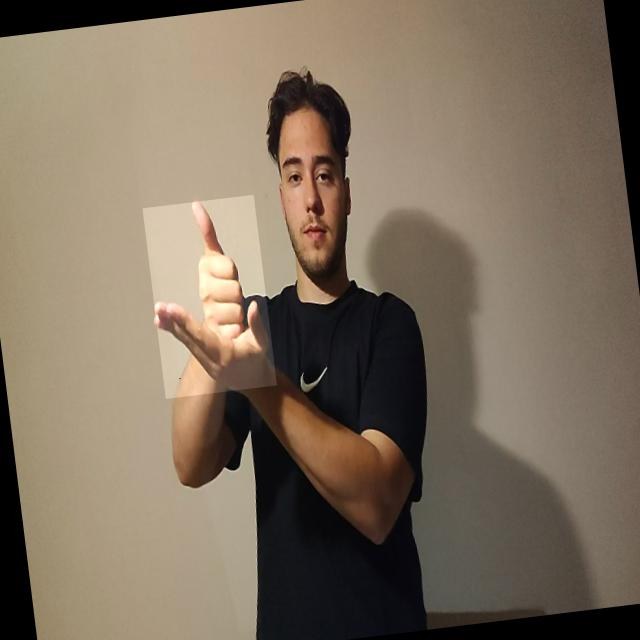help: (142, 194, 277, 398)
